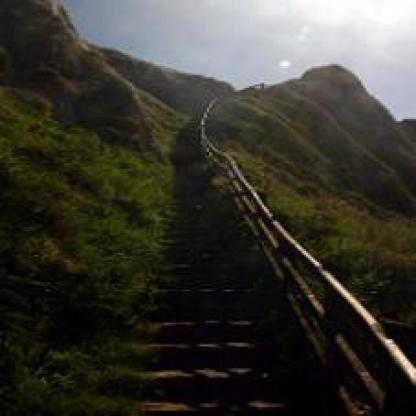stair_up: (136, 234, 310, 412)
